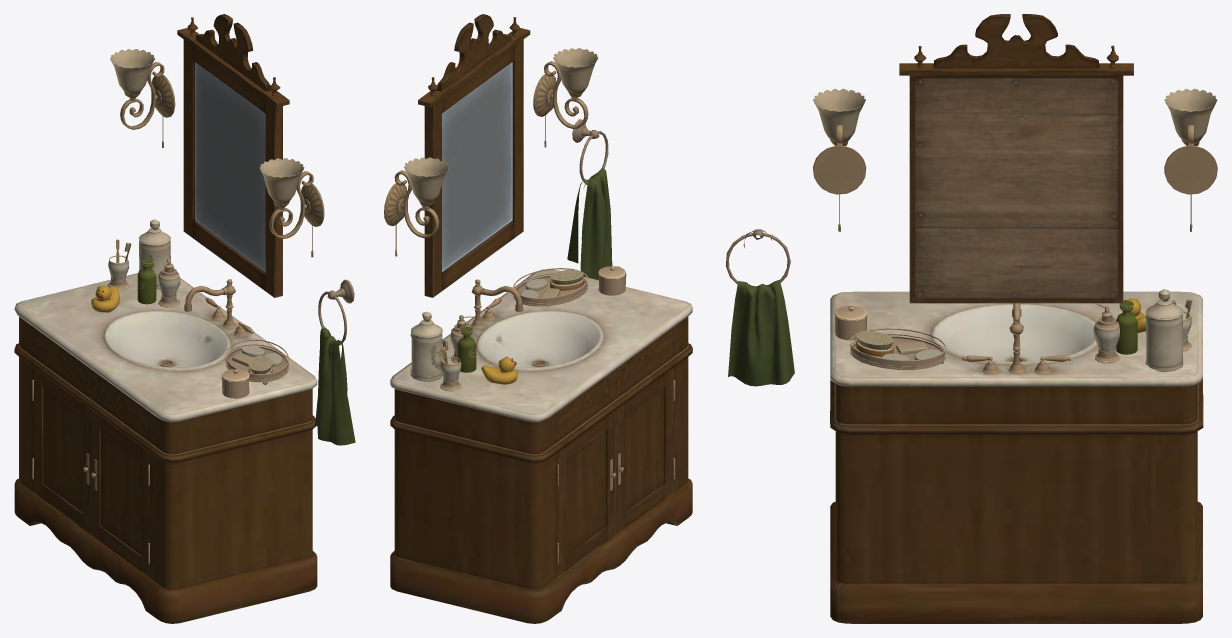
Rendered from SM_SinkSet_d4d732.glb.
The picture shows the model from 3 angles, left to right: view 1: azimuth 30°, elevation 25°; view 2: azimuth 150°, elevation 25°; view 3: azimuth 270°, elevation 25°; orthographic projection. The views are drawn at different scales.
Size of the model in its own units: 0.7637 by 2.39 by 1.78.
10 materials, 10 textured.
